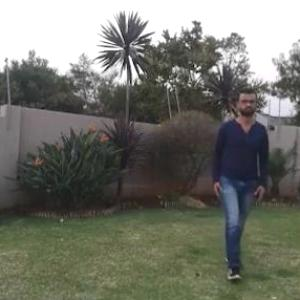follow: (213, 90, 260, 256)
